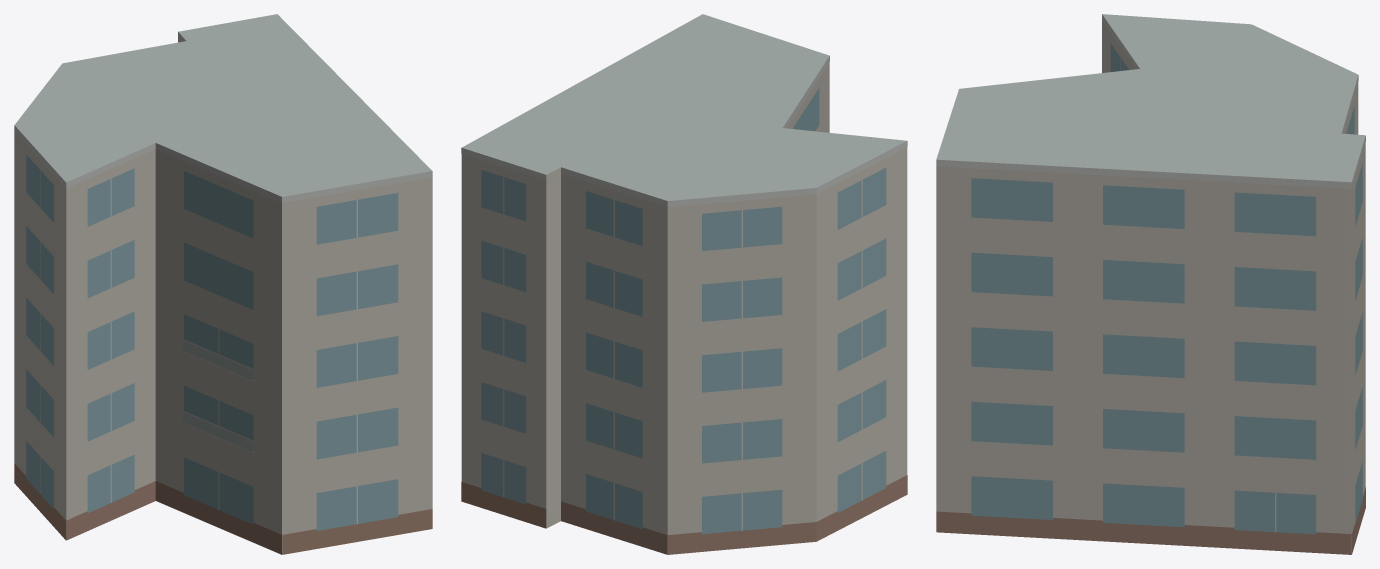
Rendered from survey-upis-32970866.glb.
3 views of the same model, side by side, from view 1: azimuth 30°, elevation 25°; view 2: azimuth 150°, elevation 25°; view 3: azimuth 270°, elevation 25° (orthographic). The views are drawn at different scales.
Visible parts, largest first — view 1: survey-upis-32970866.tmp; view 2: survey-upis-32970866.tmp; view 3: survey-upis-32970866.tmp.
Boxes of the visible parts, bbox=[...] form: survey-upis-32970866.tmp: bbox=[14, 14, 432, 554]; survey-upis-32970866.tmp: bbox=[461, 14, 907, 554]; survey-upis-32970866.tmp: bbox=[936, 14, 1365, 554].
Size of the model in its own units: 13.47 by 13.9 by 14.53.
